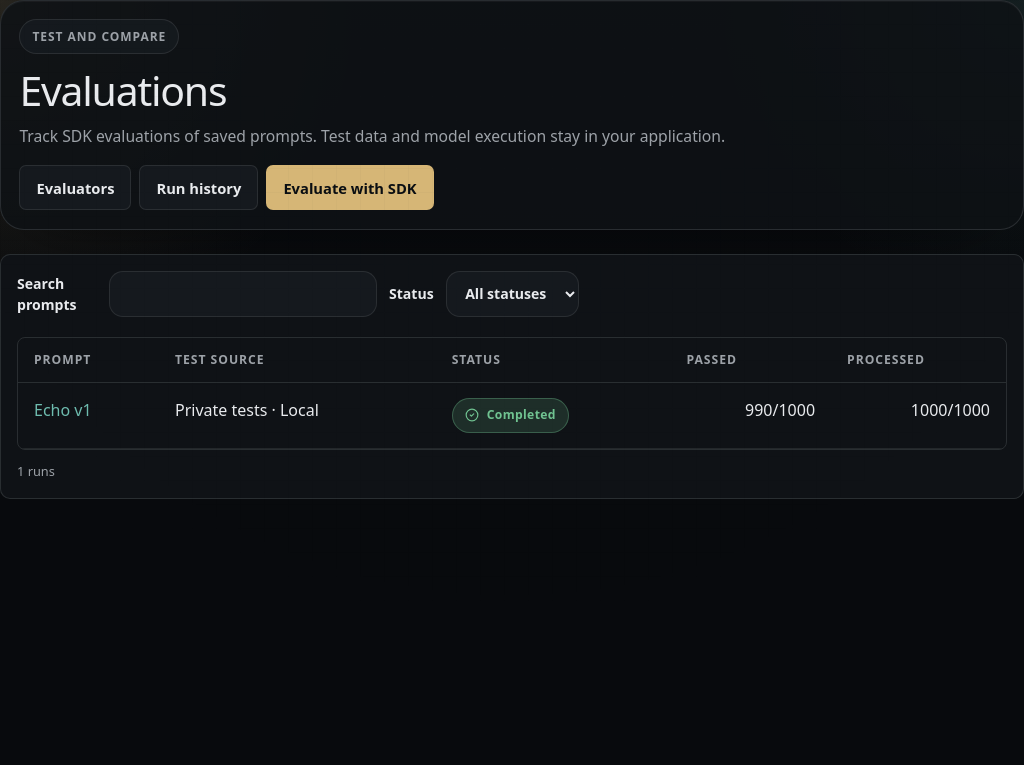
Test case: shows local history without requesting hosted dataset management
Click the button "Echo v1". click: (63, 410)
box: [34, 398, 92, 422]
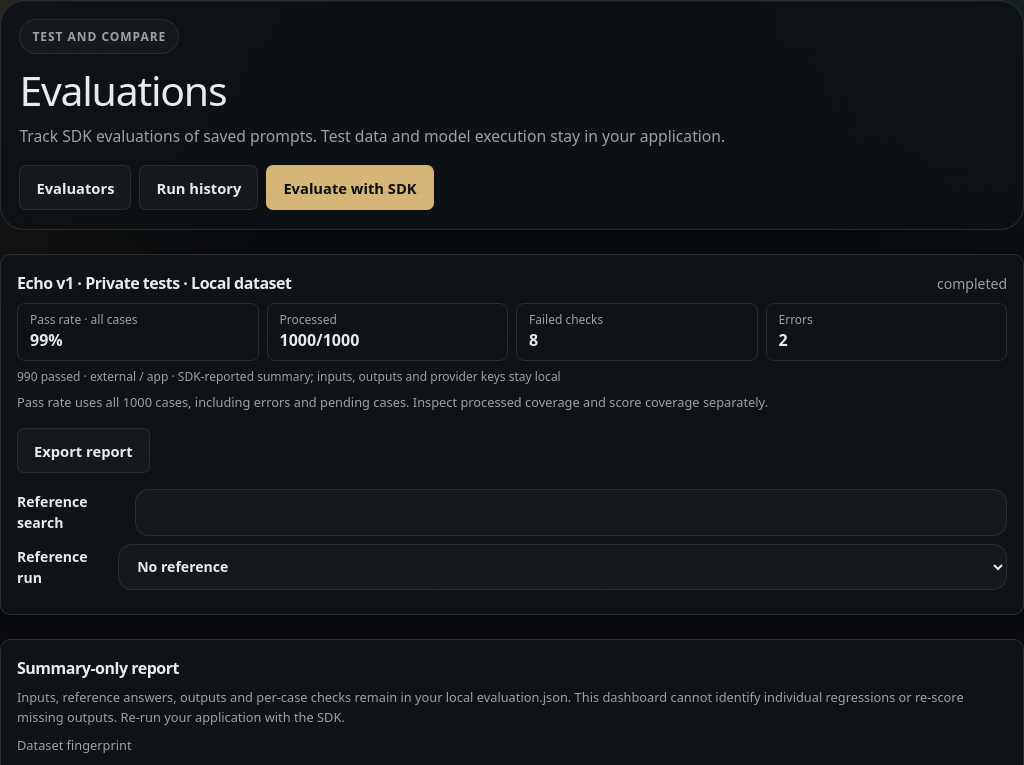
Result: the heading "Summary-only report" is shown at [17, 657, 179, 679]
Result: the text "Inputs, reference answers, outputs" is shown at [17, 688, 964, 726]
